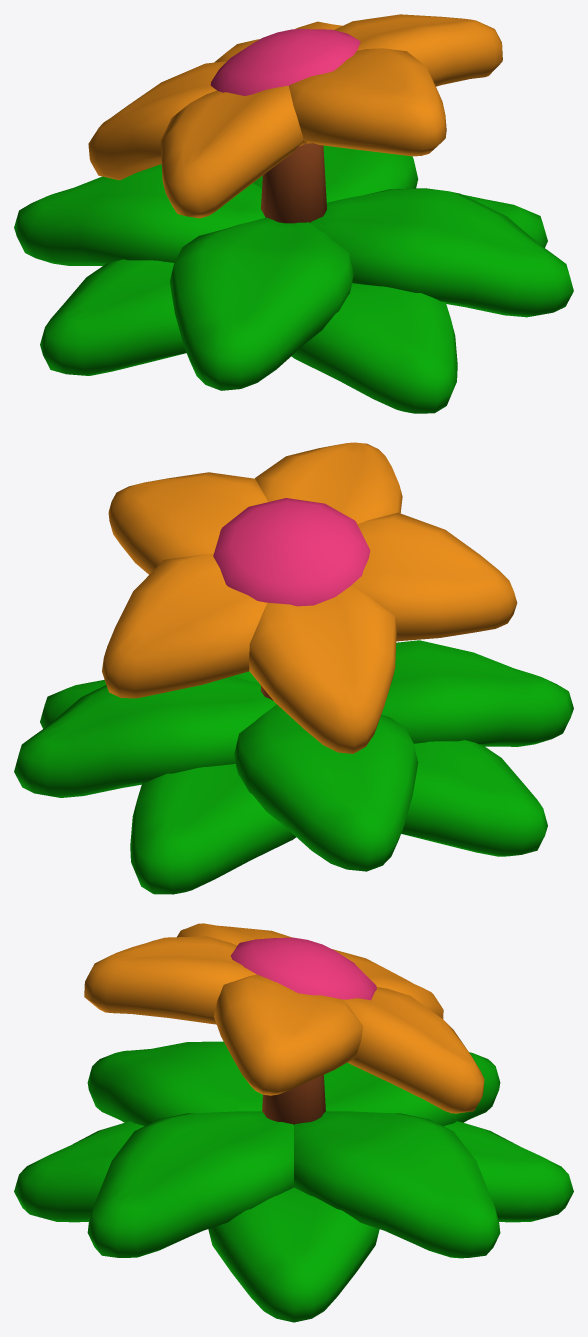
Rendered from Flower_2.fbx.
The picture shows the model from 3 angles, top to bottom: view 1: azimuth 30°, elevation 25°; view 2: azimuth 150°, elevation 25°; view 3: azimuth 270°, elevation 25°; orthographic projection. The views are drawn at different scales.
Parts seen in each view (by area): view 1: Flower_2; view 2: Flower_2; view 3: Flower_2.
Part boxes in pixels (x1=…): Flower_2: x1=14, y1=14, x2=573, y2=413; Flower_2: x1=14, y1=442, x2=573, y2=894; Flower_2: x1=14, y1=923, x2=573, y2=1322.
Size of the model in its own units: 74.45 by 40.84 by 74.45.
